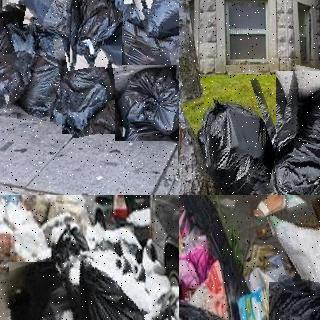Garbage: (190, 82, 295, 195), (54, 243, 158, 320), (58, 31, 127, 136), (267, 67, 320, 195), (12, 26, 82, 122), (274, 195, 320, 320), (0, 257, 89, 320), (115, 65, 179, 141), (4, 0, 98, 42), (0, 7, 35, 110), (70, 0, 123, 67), (264, 278, 320, 320)
